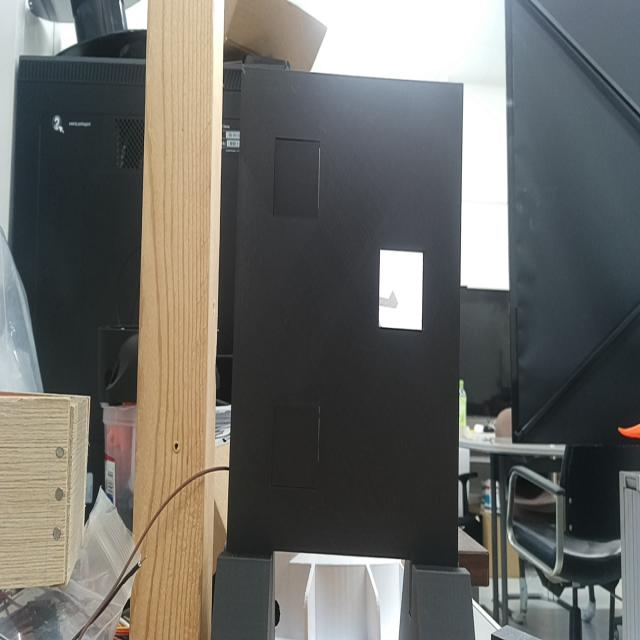Obstacle: (378, 249, 424, 331)
Wall: (227, 66, 463, 565)
